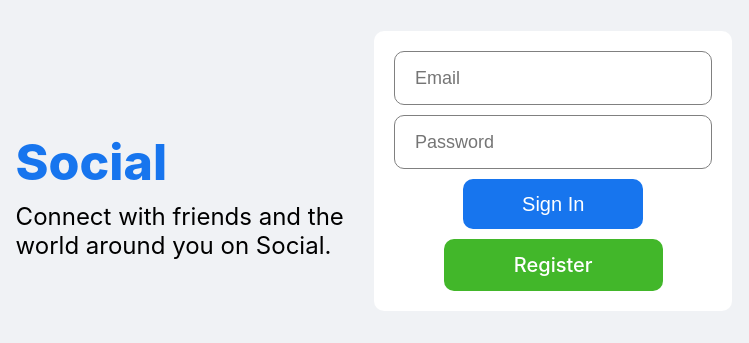
Test: Tests the login validations › should display error message on empty password
Type "georgijl@abv.bg" into the field with test id "email" at (553, 78), box [394,51,712,105]
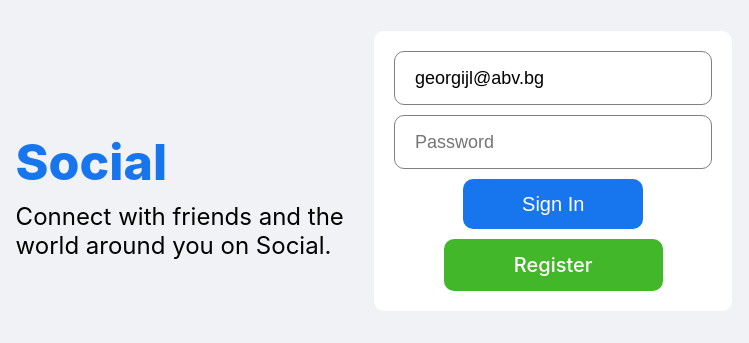
Click the button with test id "submit-btn" at (553, 204), box [463,179,643,229]
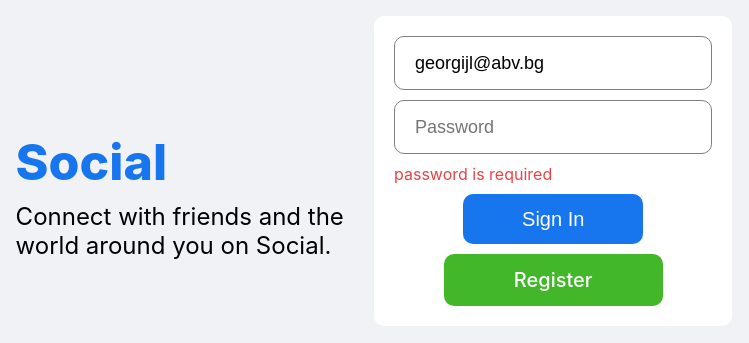
Expected: the text with test id "login__error" reads "password is required", [394,164,552,184]
